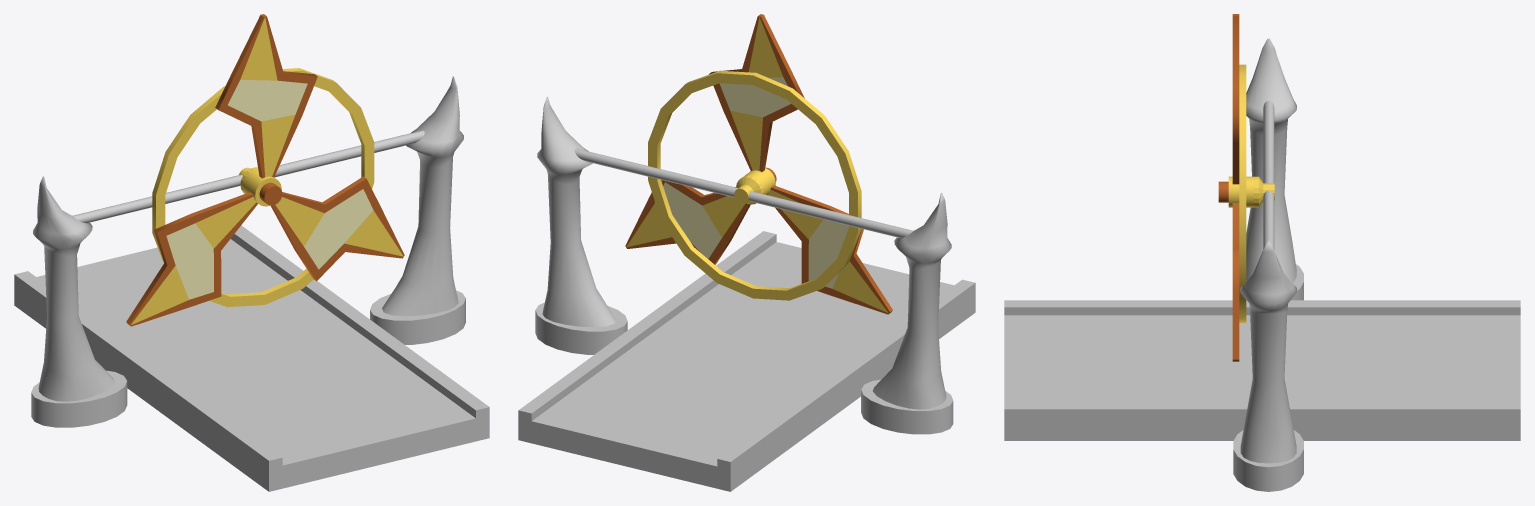
The model's file is Special track - Fan.fbx.
3 renders of one model, left to right at view 1: azimuth 30°, elevation 25°; view 2: azimuth 150°, elevation 25°; view 3: azimuth 270°, elevation 25°, orthographic. The views are drawn at different scales.
Visible parts, largest first — view 1: Track - Fan peice, Fan; view 2: Track - Fan peice, Fan; view 3: Track - Fan peice, Fan.
Boxes of the visible parts, x1,y1,x2,y2 form: Track - Fan peice: (14,76,489,491); Fan: (126,14,404,326); Track - Fan peice: (518,96,975,491); Fan: (625,14,892,314); Track - Fan peice: (1004,38,1520,491); Fan: (1218,14,1274,361).
Bounding box in the file's own units: 96.98 × 79.3 × 100.
